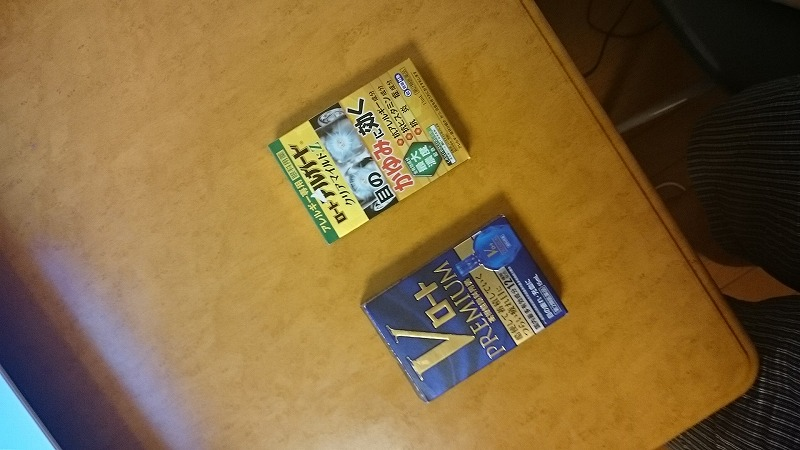C: (267, 55, 469, 245)
D: (358, 214, 575, 406)
